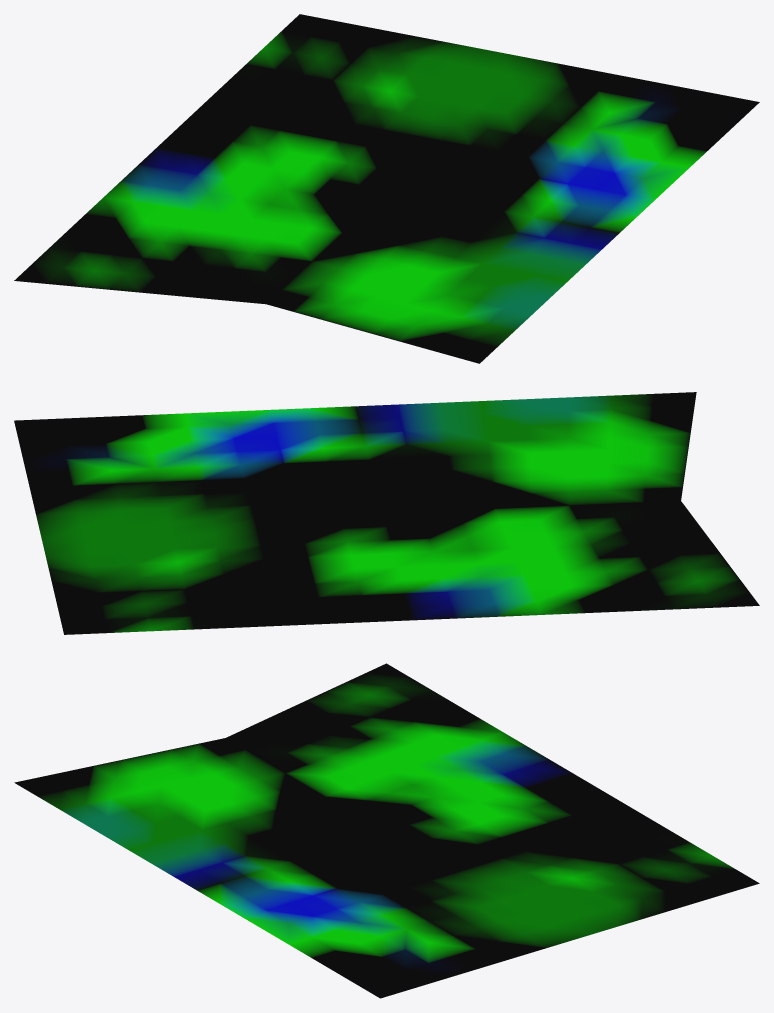
3 renders of one model, top to bottom at view 1: azimuth 30°, elevation 25°; view 2: azimuth 150°, elevation 25°; view 3: azimuth 270°, elevation 25°, orthographic. The views are drawn at different scales.
Visible parts, largest first — view 1: Sprite__3_; view 2: Sprite__3_; view 3: Sprite__3_.
Part boxes in pixels (left/top/right/bottom): Sprite__3_: left=14, top=14, right=759, bottom=363; Sprite__3_: left=14, top=392, right=759, bottom=634; Sprite__3_: left=14, top=663, right=759, bottom=998.
Bounding box in the file's own units: 1583 × 0.00877 × 1489.
